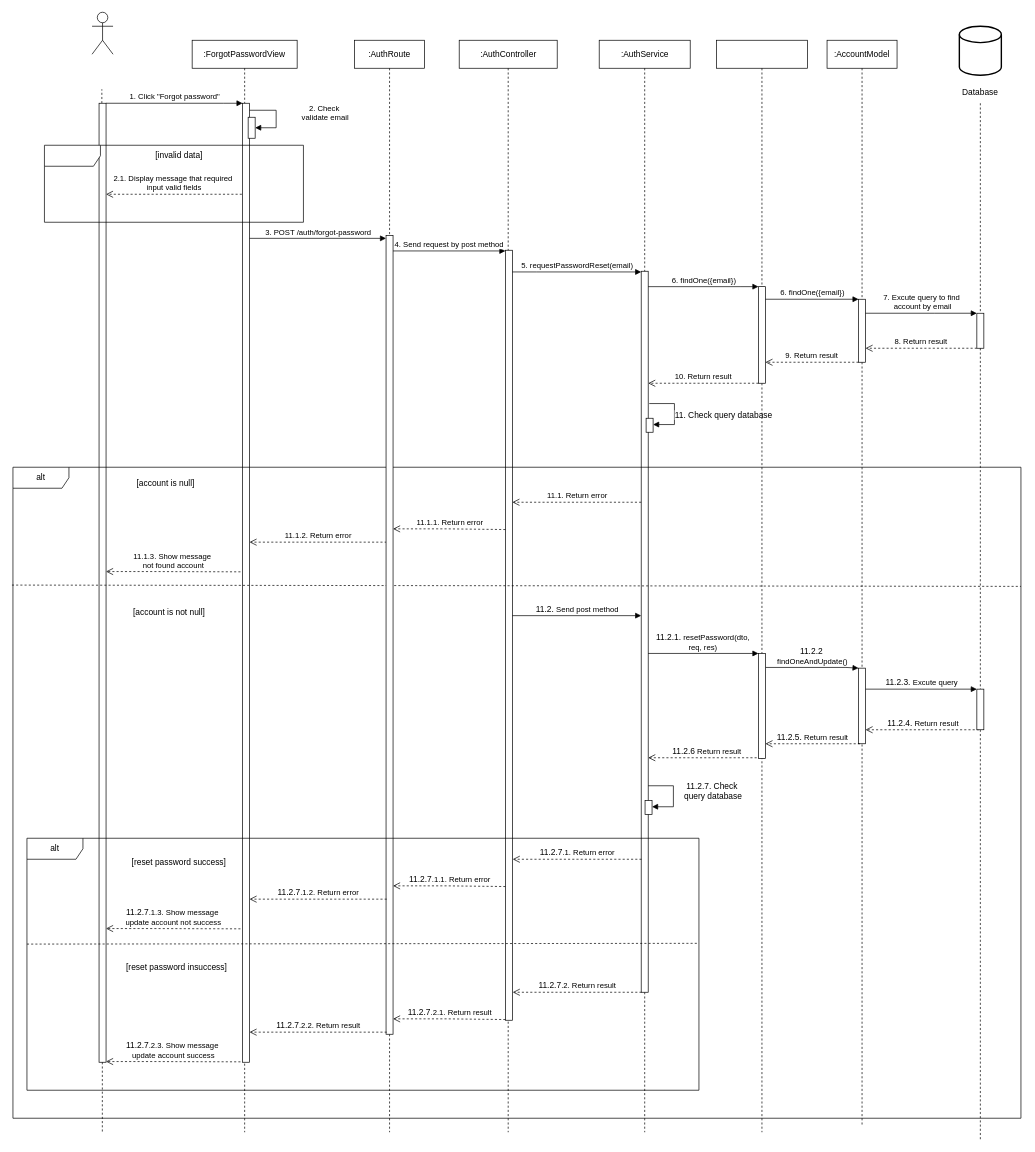
Some shapes in this 1035 by 1152 pixel diagram are drawn without their labels. Here are the shapes that lost their labels. From the top down, the box of each, then its label:
(91, 12, 113, 54): Client / Freelancer
(44, 145, 303, 222): opt
(716, 40, 807, 1132): :AuthRepo
